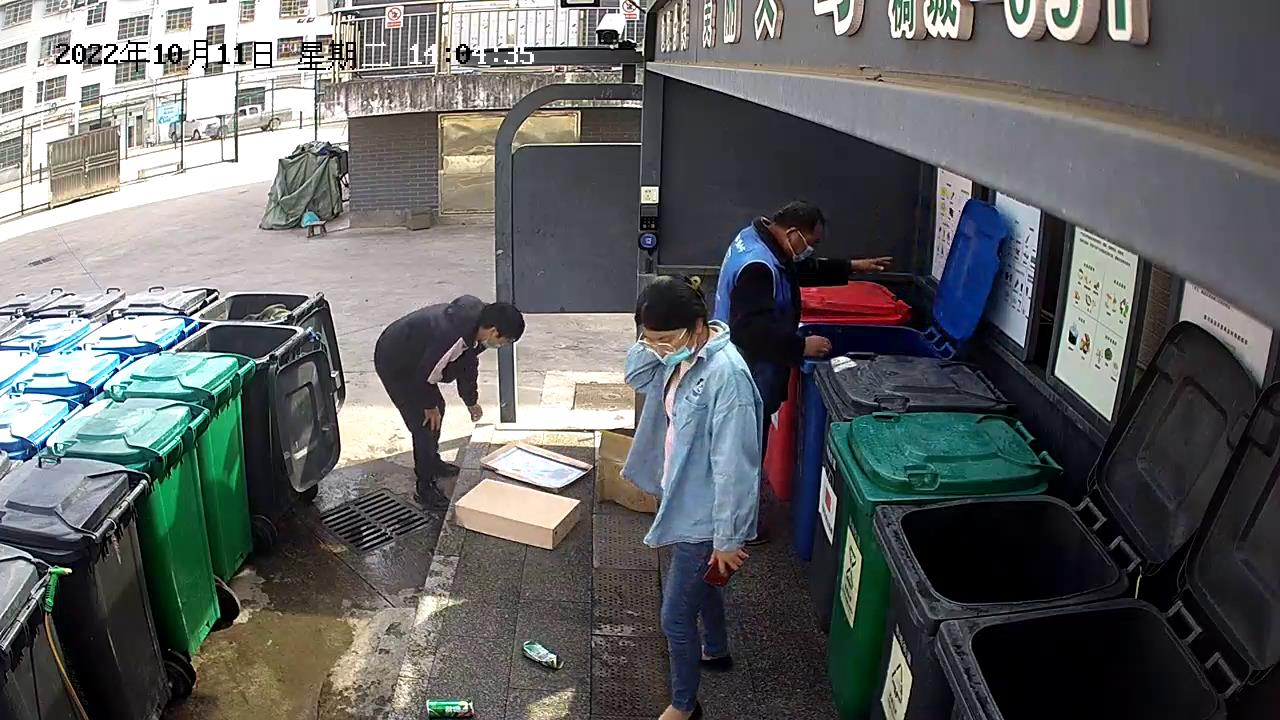lvzhipin: (521, 635, 569, 675), (422, 690, 475, 720)
person: (372, 293, 526, 509)
worker: (615, 273, 766, 720), (711, 197, 893, 414)
zhizhipin: (450, 475, 585, 552), (474, 434, 597, 491), (595, 425, 664, 515)
